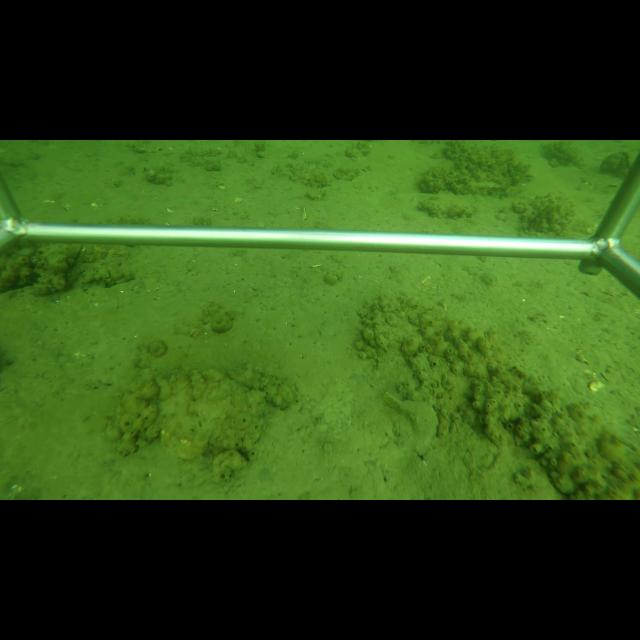Oyster-Closed: (387, 394, 440, 456)
